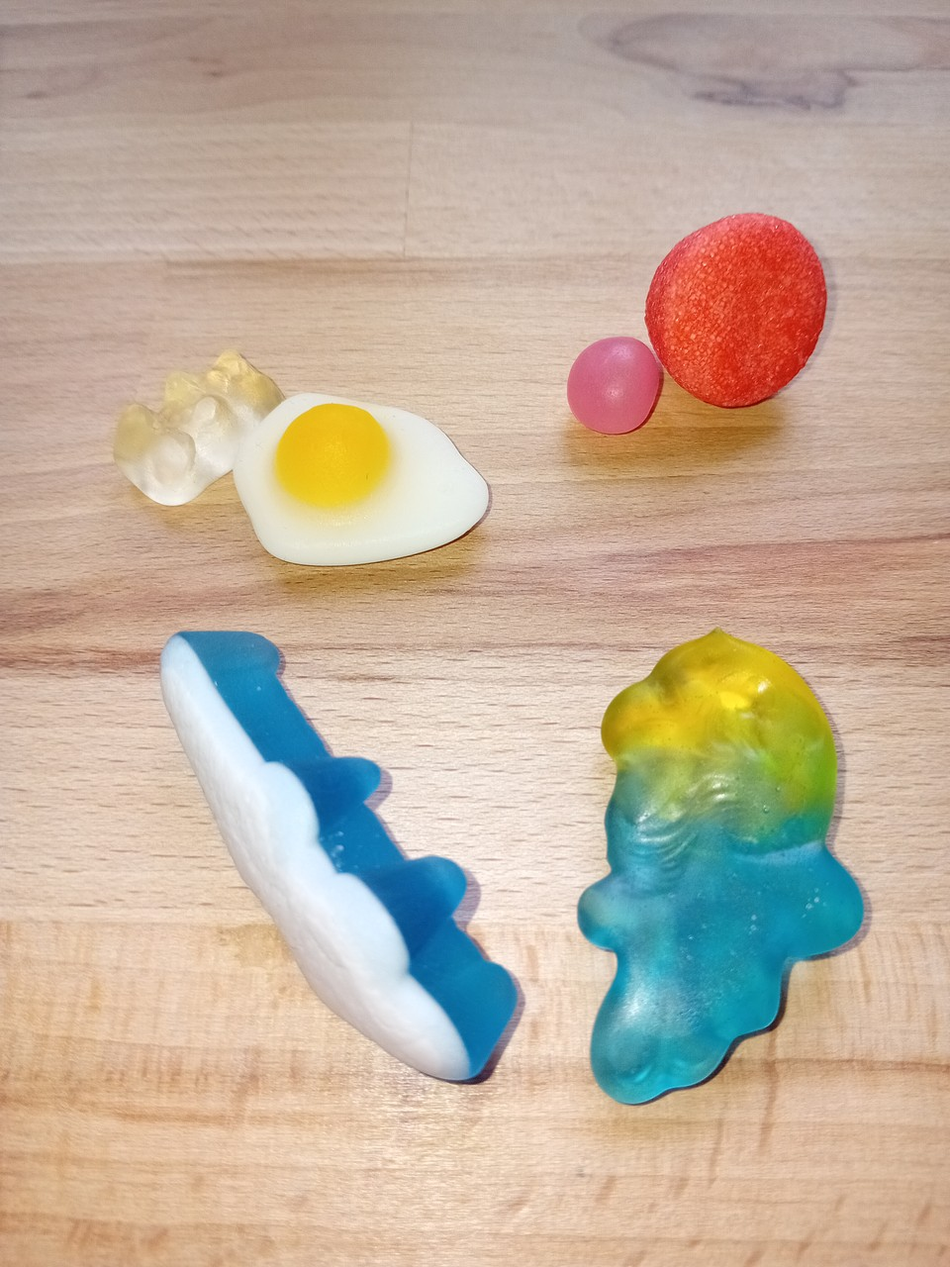crocodile_bleu: (144, 614, 529, 1094)
dragibus_rose: (560, 329, 666, 441)
oeuf_oeuf: (232, 387, 497, 565)
ourson_blanc: (104, 344, 286, 509)
schtroumpf_bleu-jaune: (572, 623, 869, 1107)
tagada_fraise: (641, 207, 831, 416)
